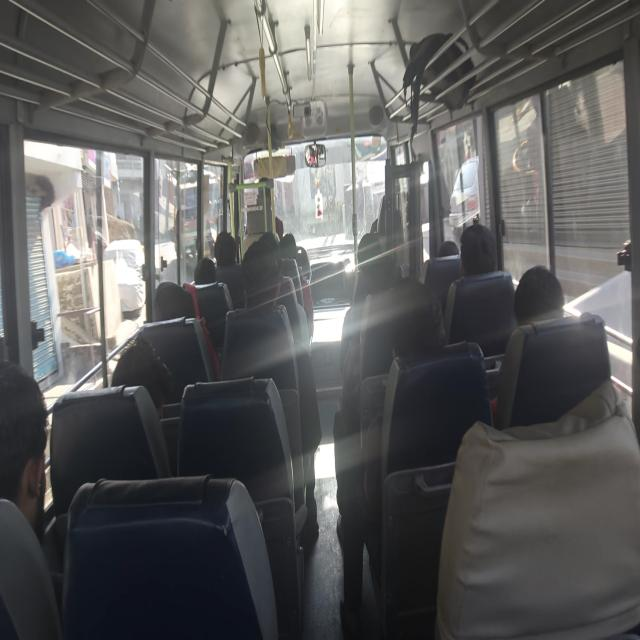person: (336, 278, 445, 636), (240, 238, 321, 542), (489, 264, 565, 424), (0, 360, 49, 544), (443, 222, 498, 344), (110, 337, 173, 418), (513, 264, 565, 325), (213, 230, 245, 310), (512, 138, 539, 230), (459, 223, 497, 277), (153, 281, 195, 321), (194, 256, 216, 286)
